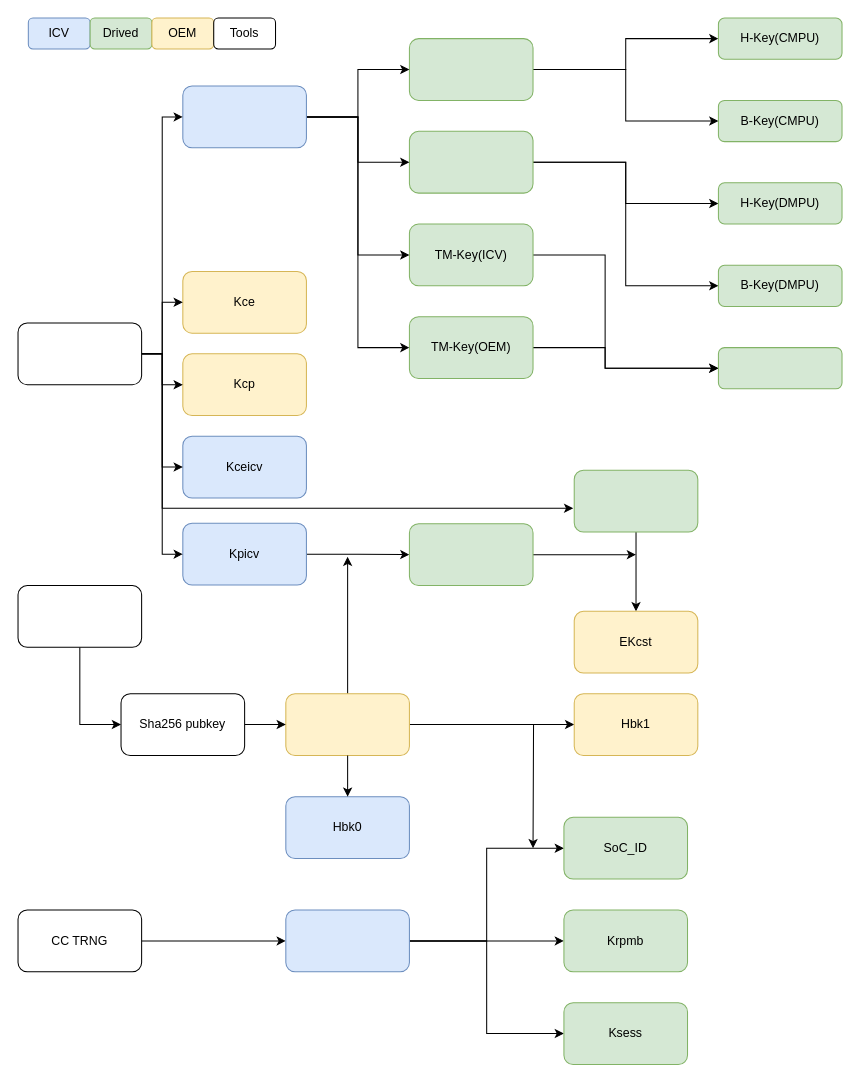
The diagram is 860 pixels wide and 1083 high, and some of its shapes have lost their labels. Each missing label, with the centre of its shape:
"Hbk" goes at point (347, 724).
"HUK" goes at point (347, 940).
"Kcst" goes at point (635, 500).
"Koem" goes at point (779, 368).
"Kplt" goes at point (470, 554).
"Krtl" goes at point (244, 116).
"Openssl rand 128" goes at point (79, 353).
"Openssl RSA keygen" goes at point (79, 616).
"TM-Key(CMPU)" goes at point (470, 69).
"TM-Key(DMPU)" goes at point (470, 161).
